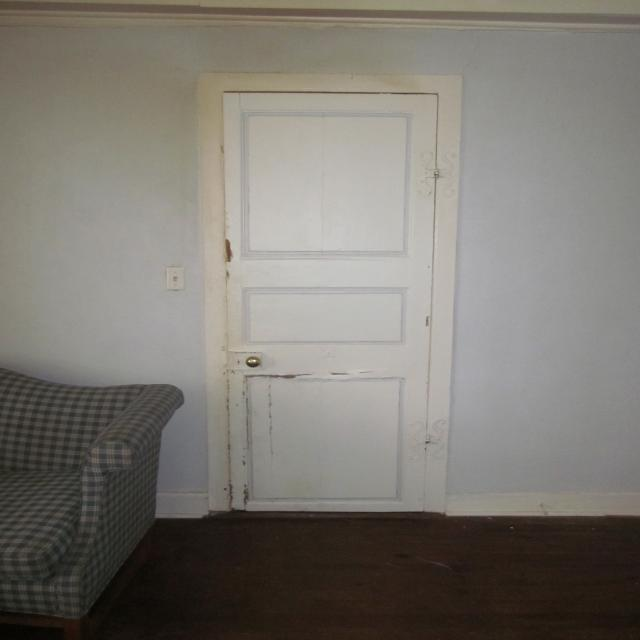door-knob: (245, 356, 262, 368)
